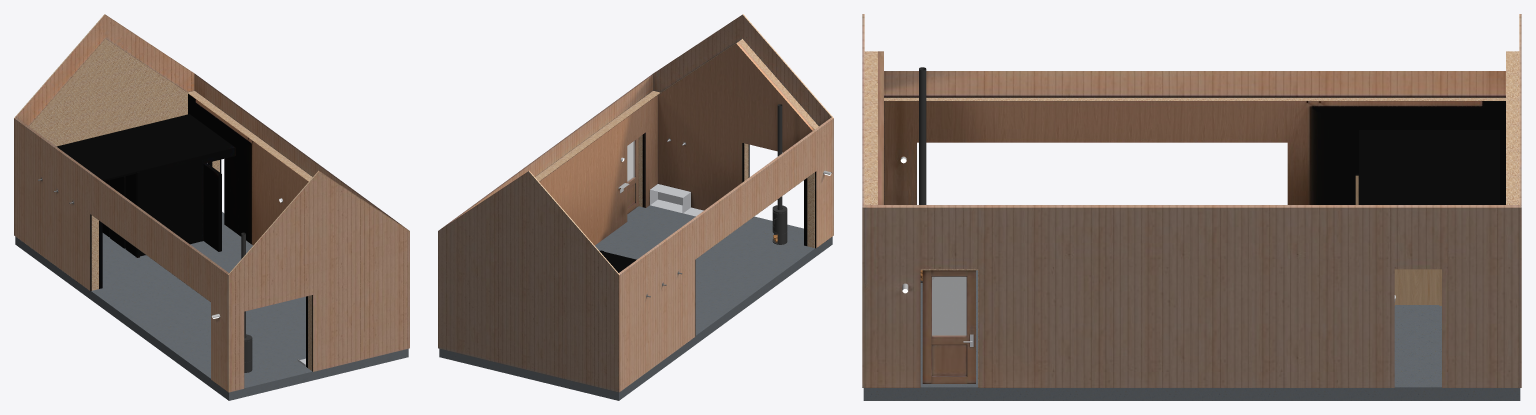
Rendered from Light_Base.glb.
3 views of the same model, side by side, from view 1: azimuth 30°, elevation 25°; view 2: azimuth 150°, elevation 25°; view 3: azimuth 270°, elevation 25° (orthographic). The views are drawn at different scales.
Visible parts, largest first — view 1: Exterior_Wood_Black_Base.001, Interior_Wood_Black_Base_Bed2.002, Concrete_Black_Base.002, Insolation_Black_Base, Fire Place_Black_Base; view 2: Exterior_Wood_Black_Base.001, Interior_Wood_Black_Base_Bed2.002, Concrete_Black_Base.002, Insolation_Black_Base, Alumininum_1_Black_Base, Fire Place_Black_Base; view 3: Exterior_Wood_Black_Base.001, Interior_Wood_Black_Base_Bed2.002, Concrete_Black_Base.002, Insolation_Black_Base, Glass_Black_Base, Fire Place_Black_Base.
Boxes of the visible parts, x1=… form: Exterior_Wood_Black_Base.001: x1=14, y1=14, x2=409, y2=392; Interior_Wood_Black_Base_Bed2.002: x1=56, y1=93, x2=308, y2=367; Concrete_Black_Base.002: x1=15, y1=212, x2=408, y2=400; Insolation_Black_Base: x1=29, y1=39, x2=312, y2=370; Fire Place_Black_Base: x1=241, y1=232, x2=252, y2=372; Exterior_Wood_Black_Base.001: x1=438, y1=14, x2=833, y2=392; Interior_Wood_Black_Base_Bed2.002: x1=539, y1=42, x2=814, y2=272; Concrete_Black_Base.002: x1=439, y1=205, x2=832, y2=400; Insolation_Black_Base: x1=535, y1=39, x2=818, y2=247; Alumininum_1_Black_Base: x1=618, y1=138, x2=832, y2=216; Fire Place_Black_Base: x1=772, y1=104, x2=787, y2=244; Exterior_Wood_Black_Base.001: x1=862, y1=14, x2=1521, y2=387; Interior_Wood_Black_Base_Bed2.002: x1=878, y1=51, x2=1505, y2=383; Concrete_Black_Base.002: x1=863, y1=270, x2=1520, y2=400; Insolation_Black_Base: x1=864, y1=51, x2=1519, y2=386; Glass_Black_Base: x1=932, y1=276, x2=966, y2=335; Fire Place_Black_Base: x1=919, y1=67, x2=933, y2=282.
Size of the model in its own units: 2.34 by 2.39 by 4.46.
16 materials, 6 textured.
